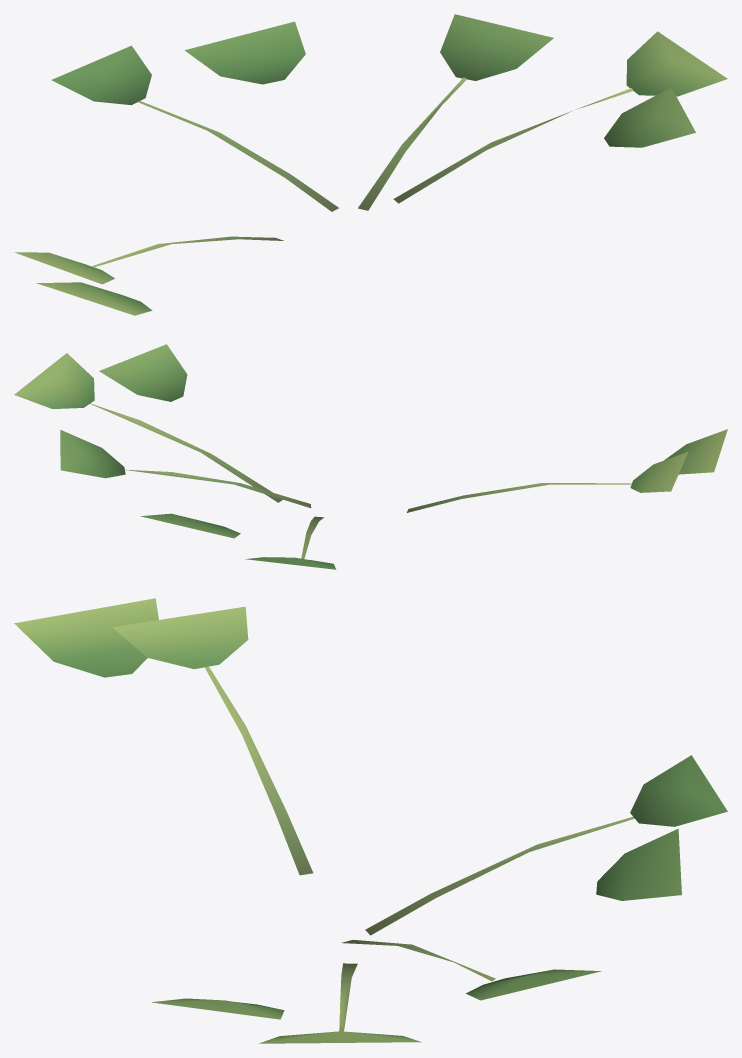
The model's file is CloverPatch_LOD1.glb.
3 renders of one model, top to bottom at view 1: azimuth 30°, elevation 25°; view 2: azimuth 150°, elevation 25°; view 3: azimuth 270°, elevation 25°, orthographic. The views are drawn at different scales.
Parts seen in each view (by area): view 1: CloverPatch_LOD1; view 2: CloverPatch_LOD1; view 3: CloverPatch_LOD1.
Boxes of the visible parts, x1=… form: CloverPatch_LOD1: x1=14, y1=14, x2=727, y2=315; CloverPatch_LOD1: x1=14, y1=344, x2=727, y2=569; CloverPatch_LOD1: x1=14, y1=598, x2=727, y2=1043.
Bounding box in the file's own units: 0.2527 × 0.0279 × 0.1737.
